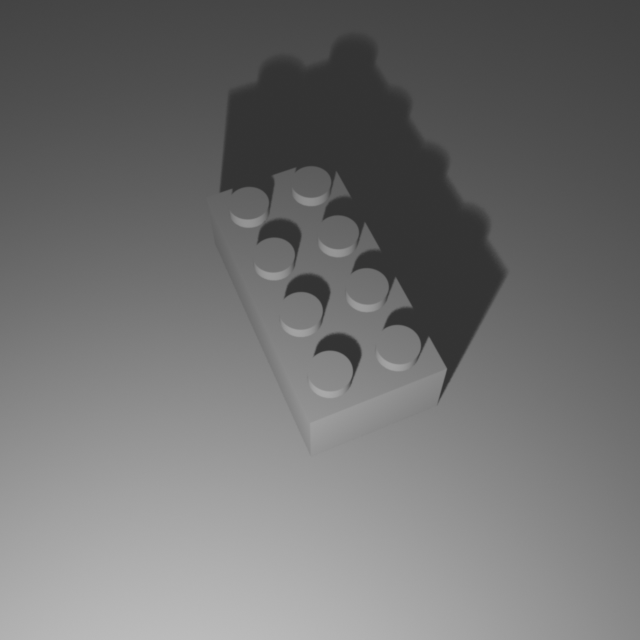lego_2x4: (205, 148, 449, 457)
